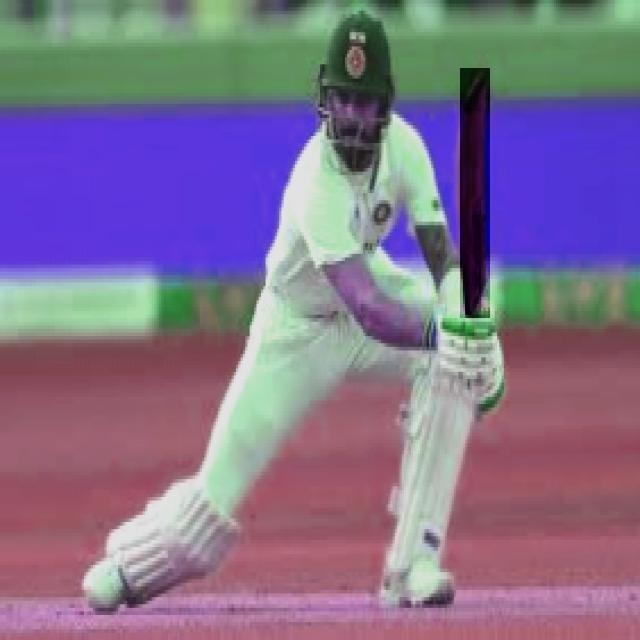bat: (454, 65, 493, 320)
